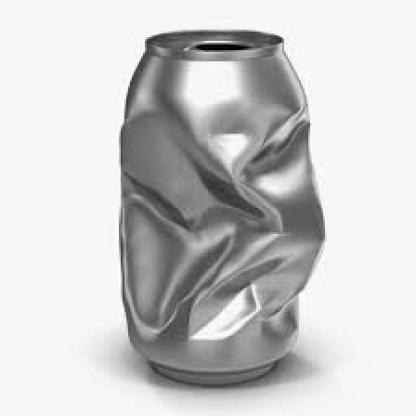METAL: (117, 30, 325, 386)
